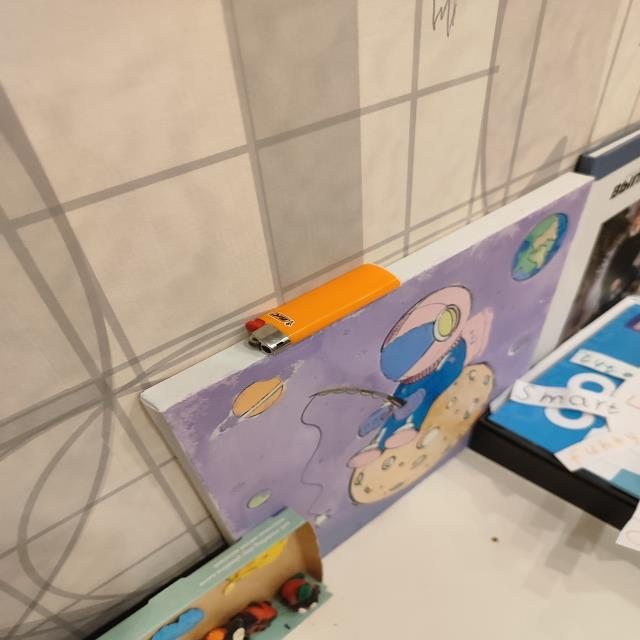lighter: (245, 264, 399, 353)
